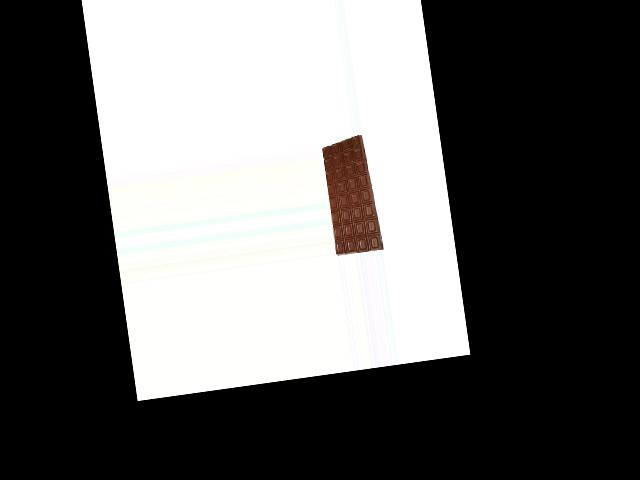chocolate: (320, 132, 382, 257)
